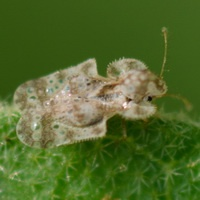insect: (14, 28, 166, 147)
